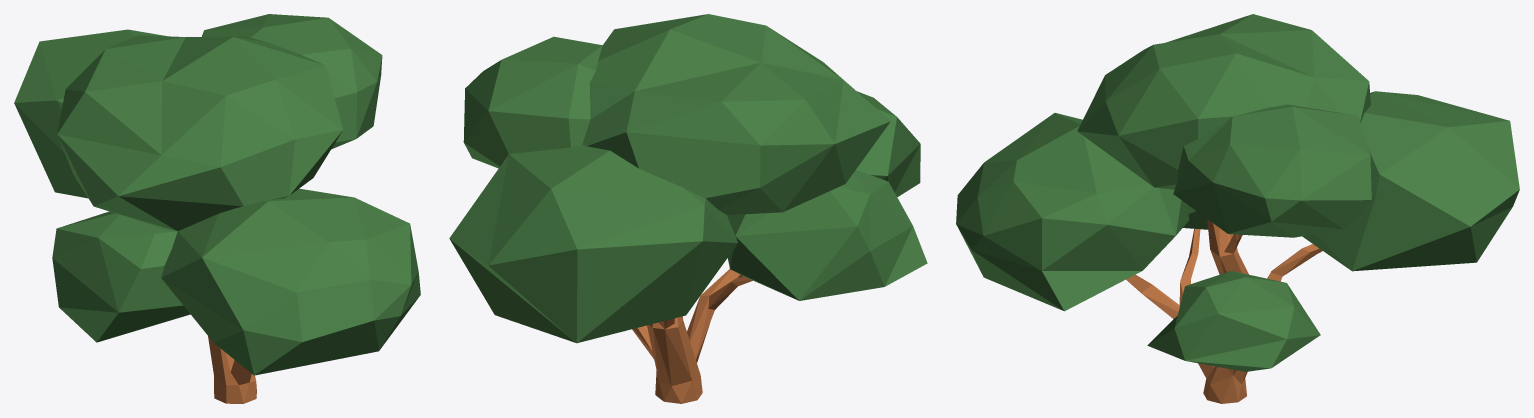
Rendered from bush04.gltf.
The picture shows the model from 3 angles, left to right: view 1: azimuth 30°, elevation 25°; view 2: azimuth 150°, elevation 25°; view 3: azimuth 270°, elevation 25°; orthographic projection. The views are drawn at different scales.
Parts seen in each view (by area): view 1: Cylinder.001; view 2: Cylinder.001; view 3: Cylinder.001.
Boxes of the visible parts, <box> form: Cylinder.001: <box>14,14,420,403</box>; Cylinder.001: <box>449,14,927,403</box>; Cylinder.001: <box>956,14,1519,403</box>.
Size of the model in its own units: 0.9197 by 0.8663 by 1.29.
1 material, 1 textured.
